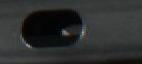holes: (20, 7, 84, 49)
